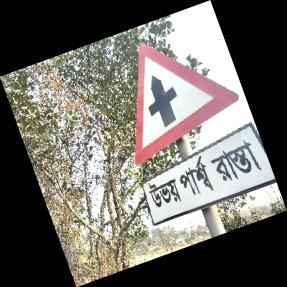Crossroad: (134, 26, 278, 226)
